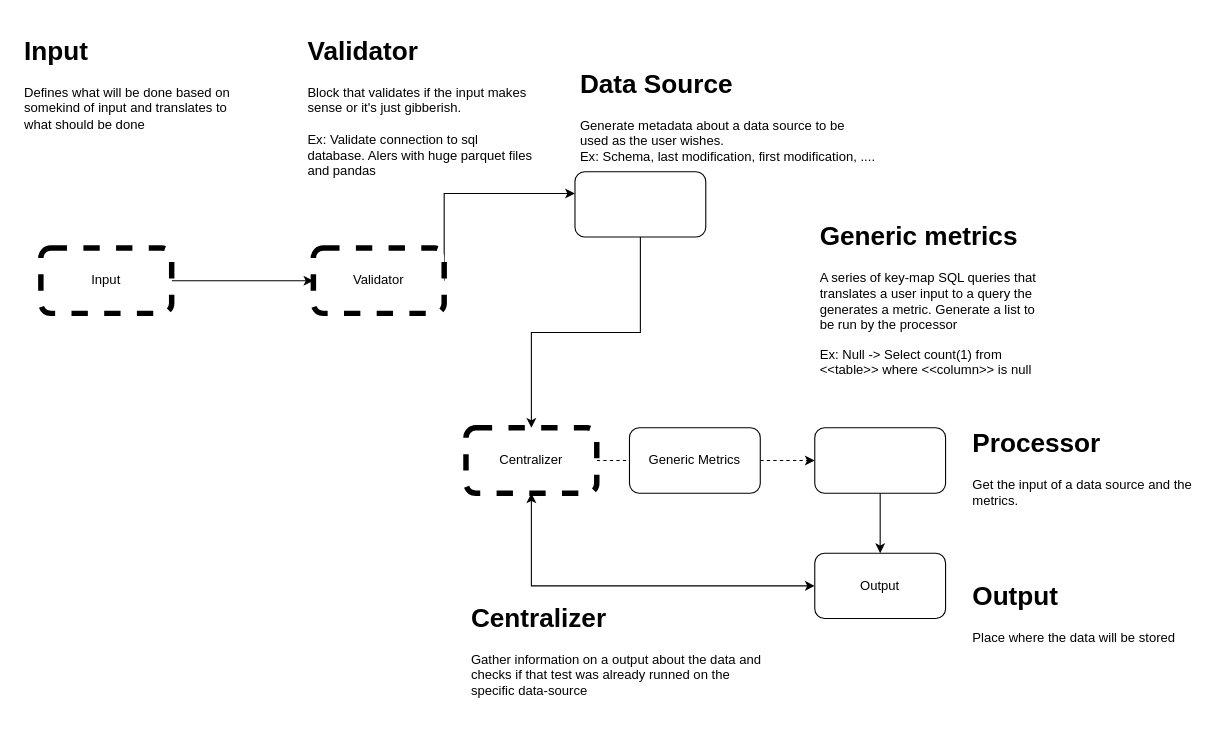
Image size: 1225x756. Some labels were removed from this diagram. Here are the shapes that lost their labels. From the top down, the centre of each, then its label:
the point at 640,204: Data Source Metadata
the point at 880,460: Processor
